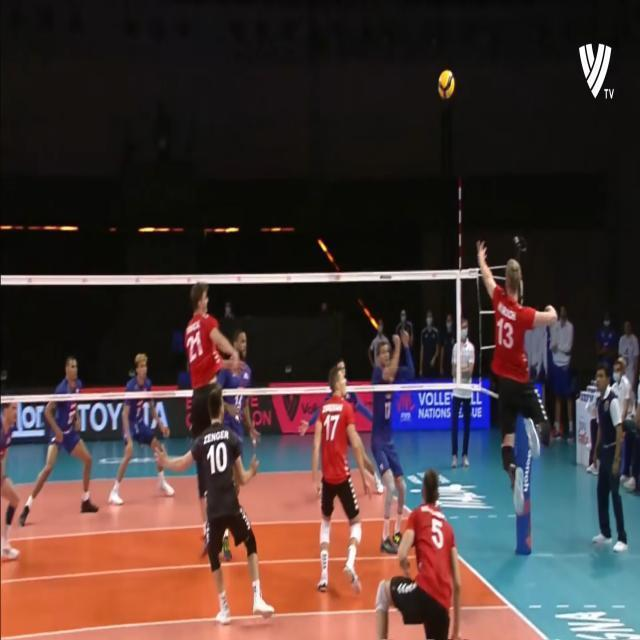volleyball: (438, 73, 452, 99)
